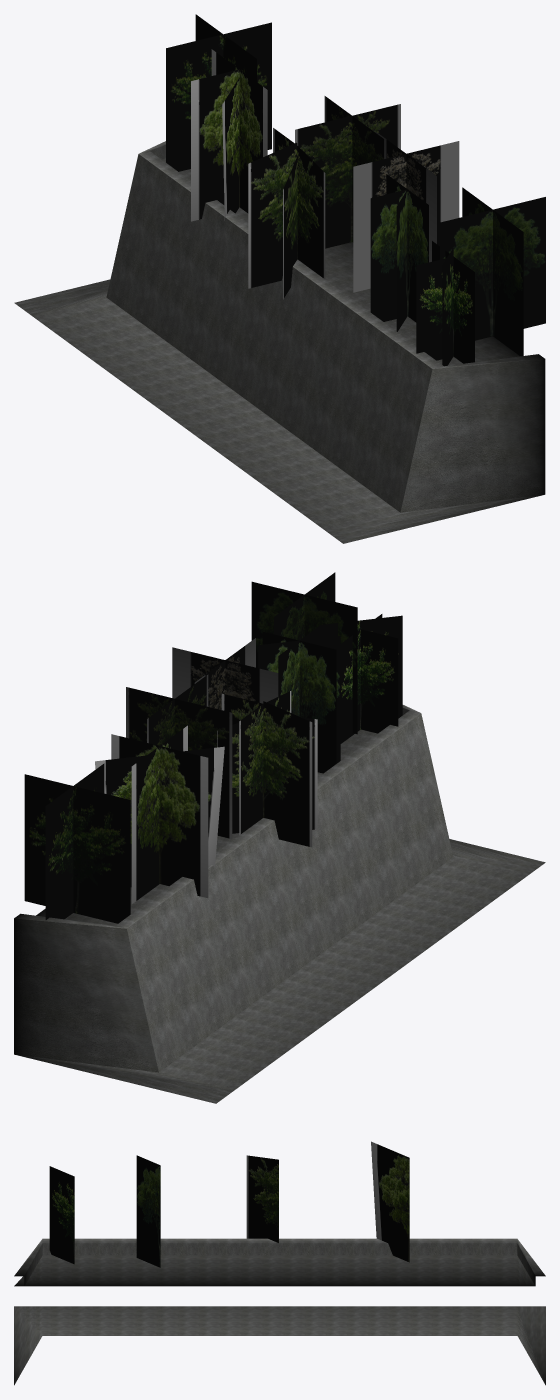
The model's file is KIN_AMB_WOLL0_L.glb.
The picture shows the model from 3 angles, top to bottom: view 1: azimuth 30°, elevation 25°; view 2: azimuth 150°, elevation 25°; view 3: azimuth 270°, elevation 25°; orthographic projection. The views are drawn at different scales.
Parts seen in each view (by area): view 1: AMB5, bone4_8, bone4_4, bone4_11, bone4_10, bone4_1, bone4_9; view 2: AMB5, bone4_4, bone4_11, bone4_1, bone4_8, bone4_9, bone4_10; view 3: AMB5, bone4_11, bone4_4, bone4_9, bone4_8.
Boxes of the visible parts, x1,y1,x2,y2 form: AMB5: (14,141,545,543); bone4_8: (416,187,545,366); bone4_4: (248,96,400,299); bone4_11: (191,49,267,221); bone4_10: (353,131,459,292); bone4_1: (166,14,271,171); bone4_9: (370,174,428,331); AMB5: (14,705,545,1103); bone4_4: (126,674,317,847); bone4_11: (95,725,224,903); bone4_1: (24,763,130,923); bone4_8: (251,572,402,743); bone4_9: (258,625,340,773); bone4_10: (172,638,278,709); AMB5: (14,1238,545,1385); bone4_11: (371,1141,409,1262); bone4_4: (246,1155,278,1242); bone4_9: (136,1155,160,1267); bone4_8: (49,1166,74,1264).
Size of the model in its own units: 48.76 by 48.98 by 112.
Materials: 8 (8 with a texture image).
